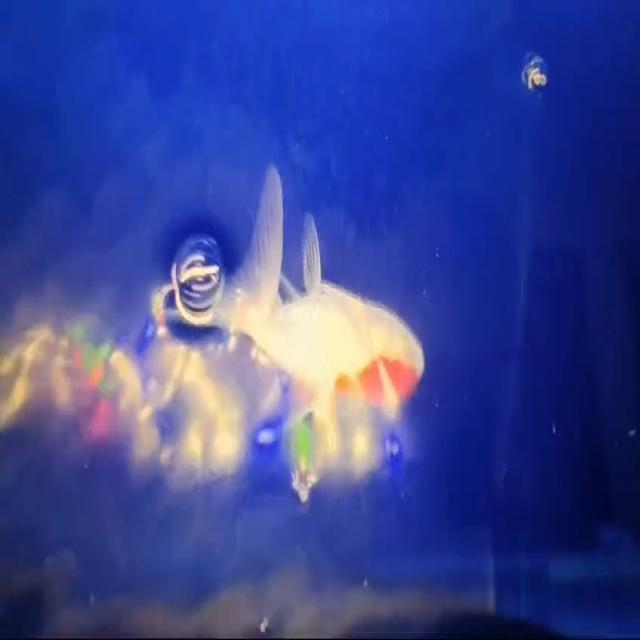fish: (204, 152, 430, 417)
